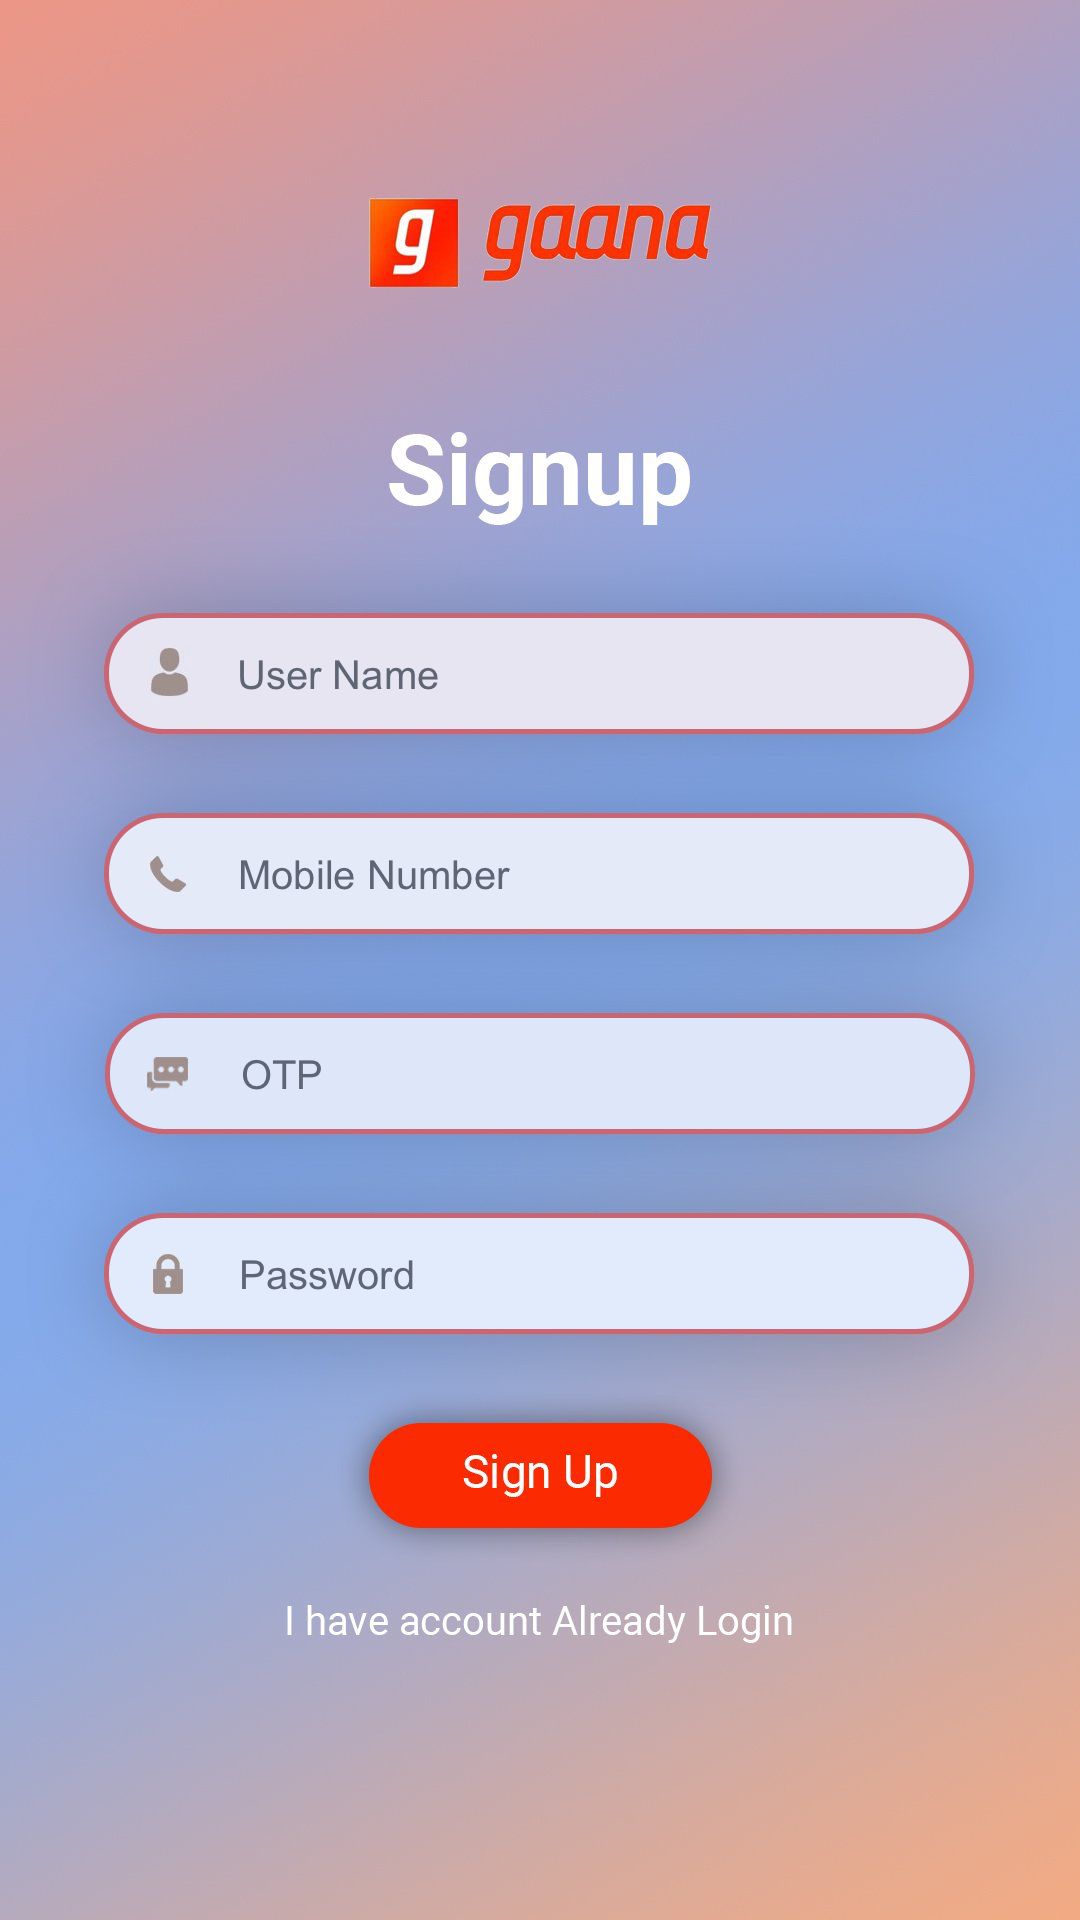EditText: (105, 1013, 976, 1135), (104, 613, 975, 735), (104, 814, 975, 935), (105, 1213, 975, 1335)
Icon: (152, 647, 190, 698), (146, 1056, 190, 1092), (153, 1254, 185, 1295)
Image: (369, 198, 712, 289), (150, 855, 189, 894)
Text: (388, 431, 691, 527), (286, 1604, 794, 1644), (241, 861, 510, 891), (240, 659, 439, 690), (243, 1261, 414, 1291), (244, 1060, 323, 1092)
TextButton: (369, 1422, 713, 1528)
